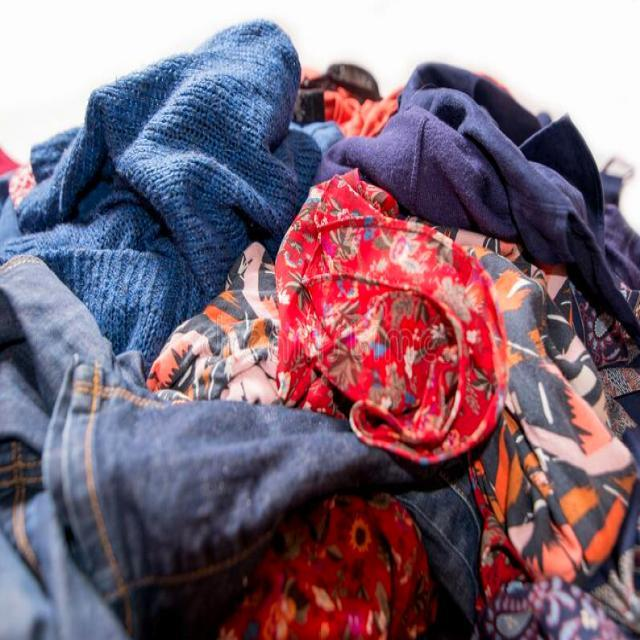clothes: (61, 220, 490, 616)
